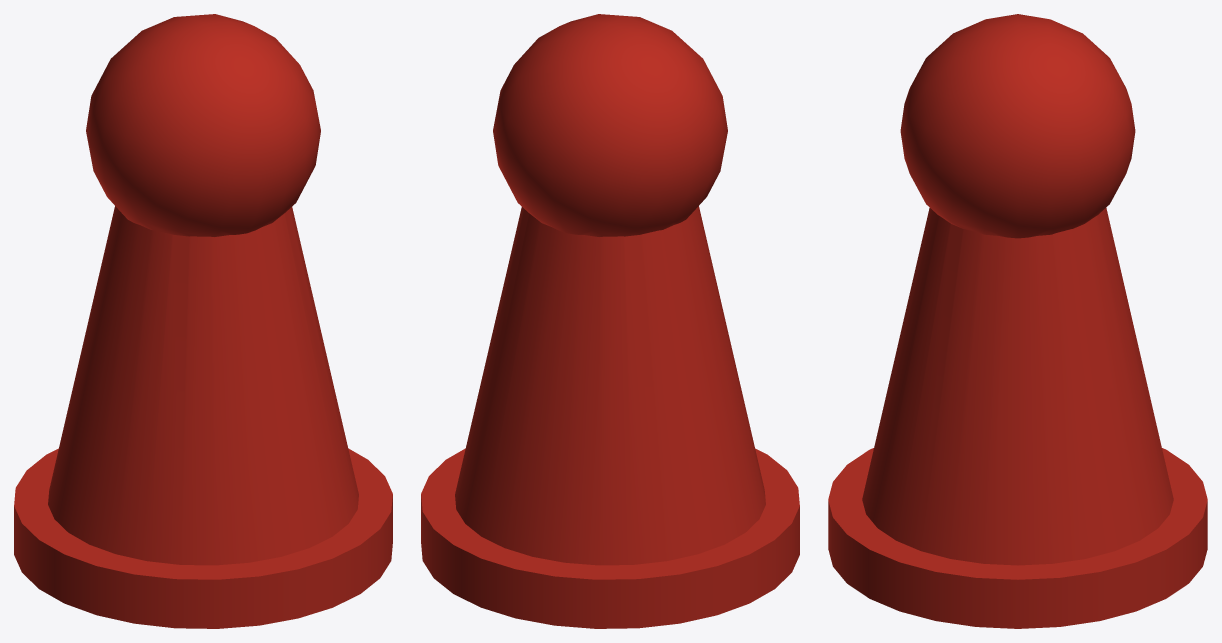
Rendered from ruhm_marker_rot.glb.
3 renders of one model, left to right at view 1: azimuth 30°, elevation 25°; view 2: azimuth 150°, elevation 25°; view 3: azimuth 270°, elevation 25°, orthographic.
Parts seen in each view (by area): view 1: ruhm_marker_rot; view 2: ruhm_marker_rot; view 3: ruhm_marker_rot.
Boxes of the visible parts, box(x1,y1,x2,y2) form: ruhm_marker_rot: box(14, 14, 392, 628); ruhm_marker_rot: box(421, 14, 799, 628); ruhm_marker_rot: box(828, 14, 1207, 628).
Size of the model in its own units: 8.4 by 12.8 by 8.4.
